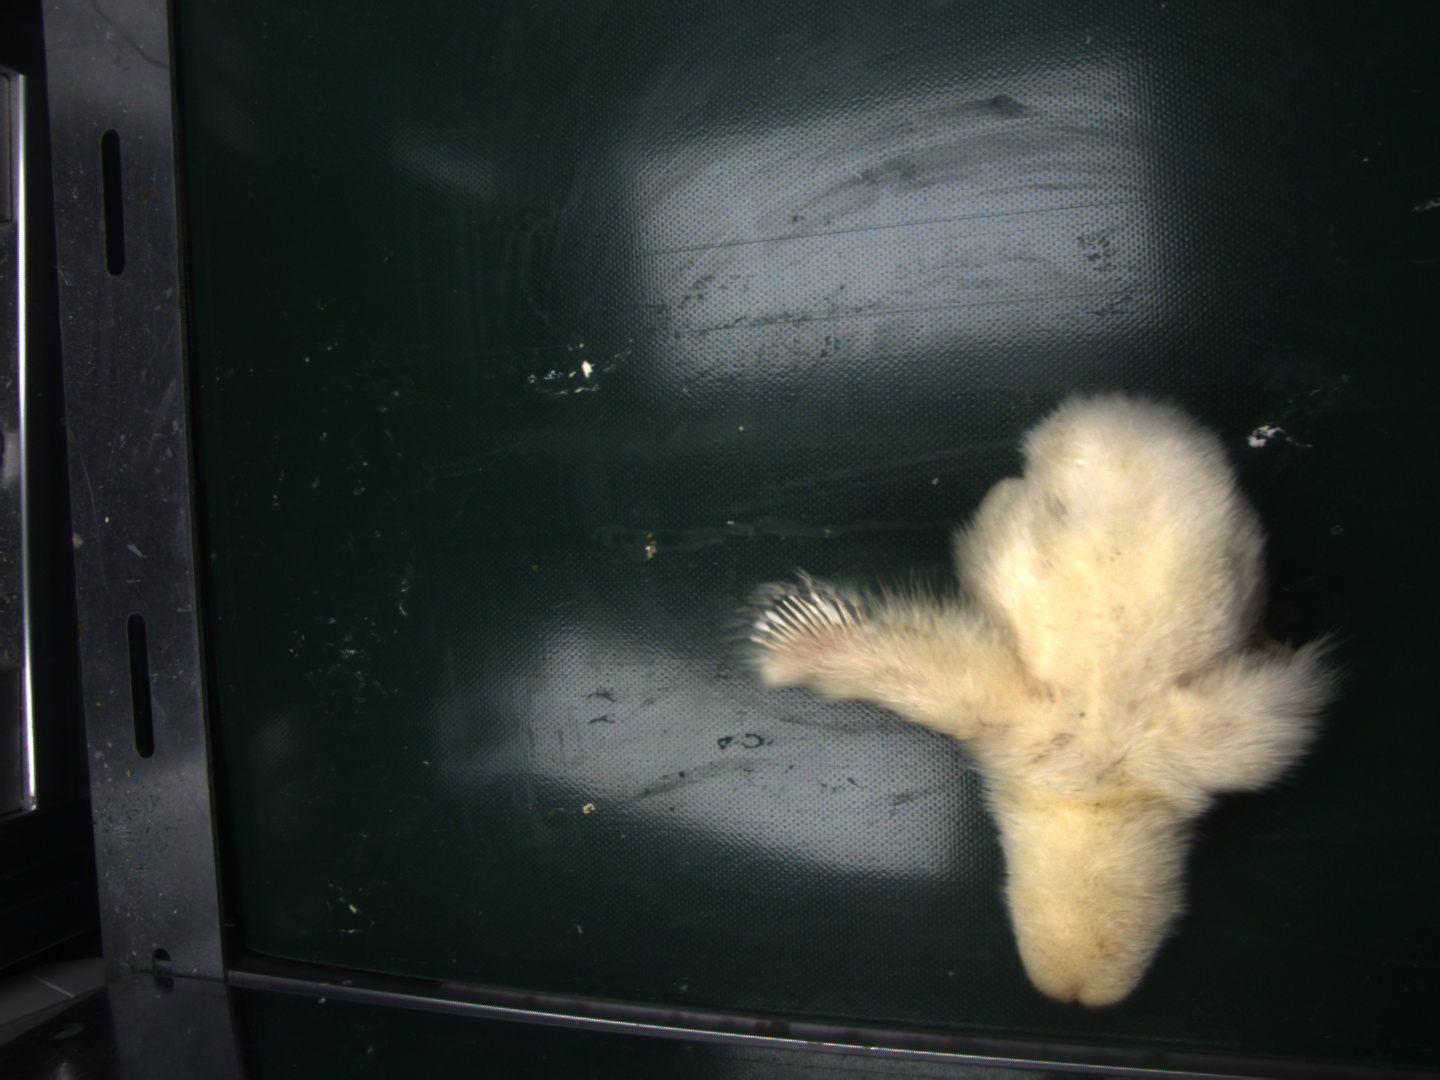male: (749, 591, 853, 653)
